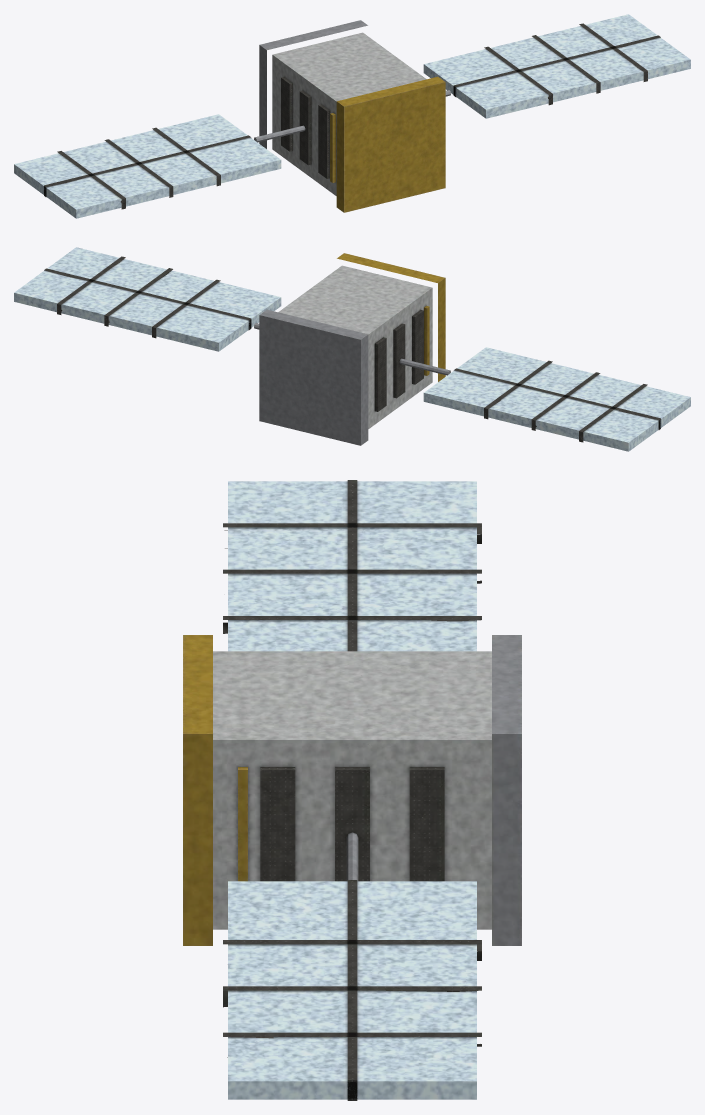
Rendered from sd_prop_sat.glb.
3 renders of one model, top to bottom at view 1: azimuth 30°, elevation 25°; view 2: azimuth 150°, elevation 25°; view 3: azimuth 270°, elevation 25°, orthographic. The views are drawn at different scales.
Parts seen in each view (by area): view 1: LOD0_body; view 2: LOD0_body; view 3: LOD0_body.
Part boxes in pixels (x1,y1,x2,y2): LOD0_body: (14, 14, 690, 218); LOD0_body: (14, 247, 690, 451); LOD0_body: (183, 480, 521, 1100).
Size of the model in its own units: 1 by 0.1649 by 0.2386.
Materials: 1 (1 with a texture image).
